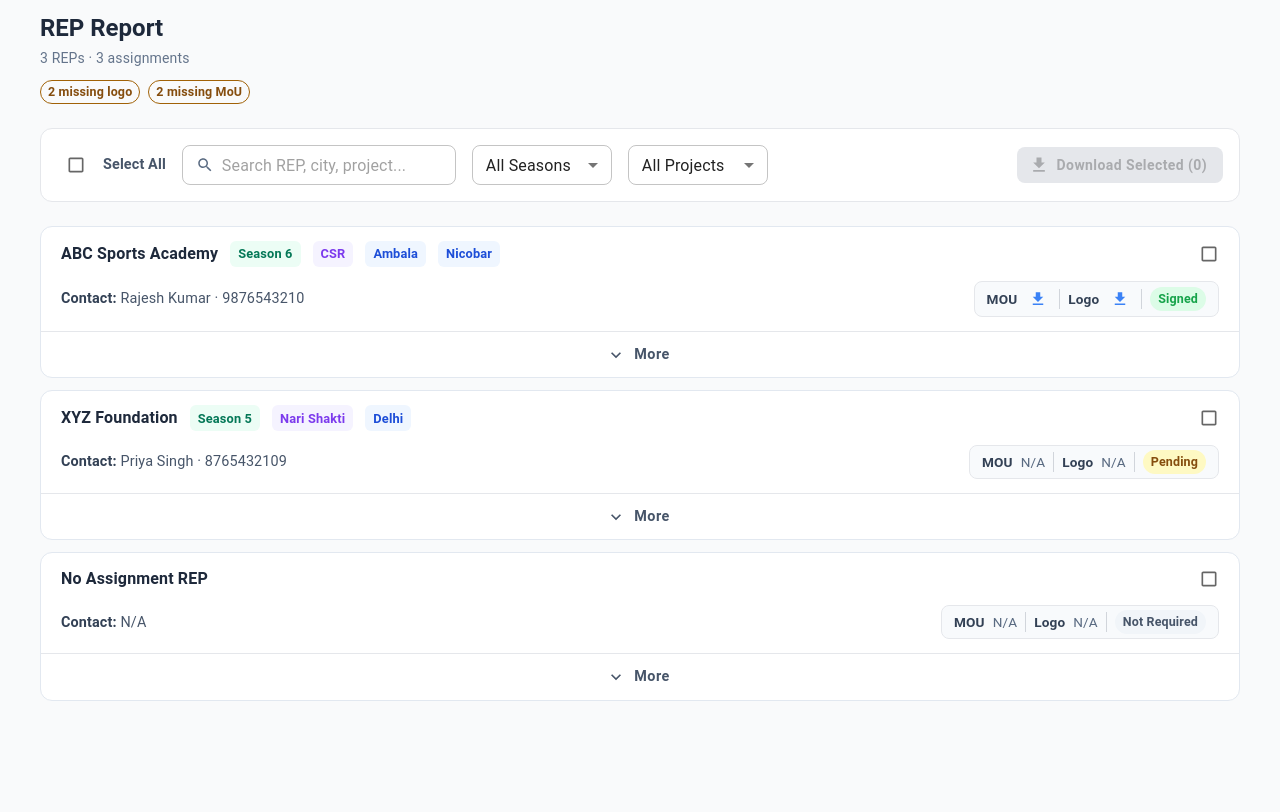
Test: SocialMediaReport › season filter narrows cards
The width and height of the screenshot is (1280, 812).
Expected: the text "ABC Sports Academy" is shown, [61,242,218,266]
First combobox is season filter
Click the dropdown labelled "All Seasons". click: (528, 165)
box: [486,156,571,174]
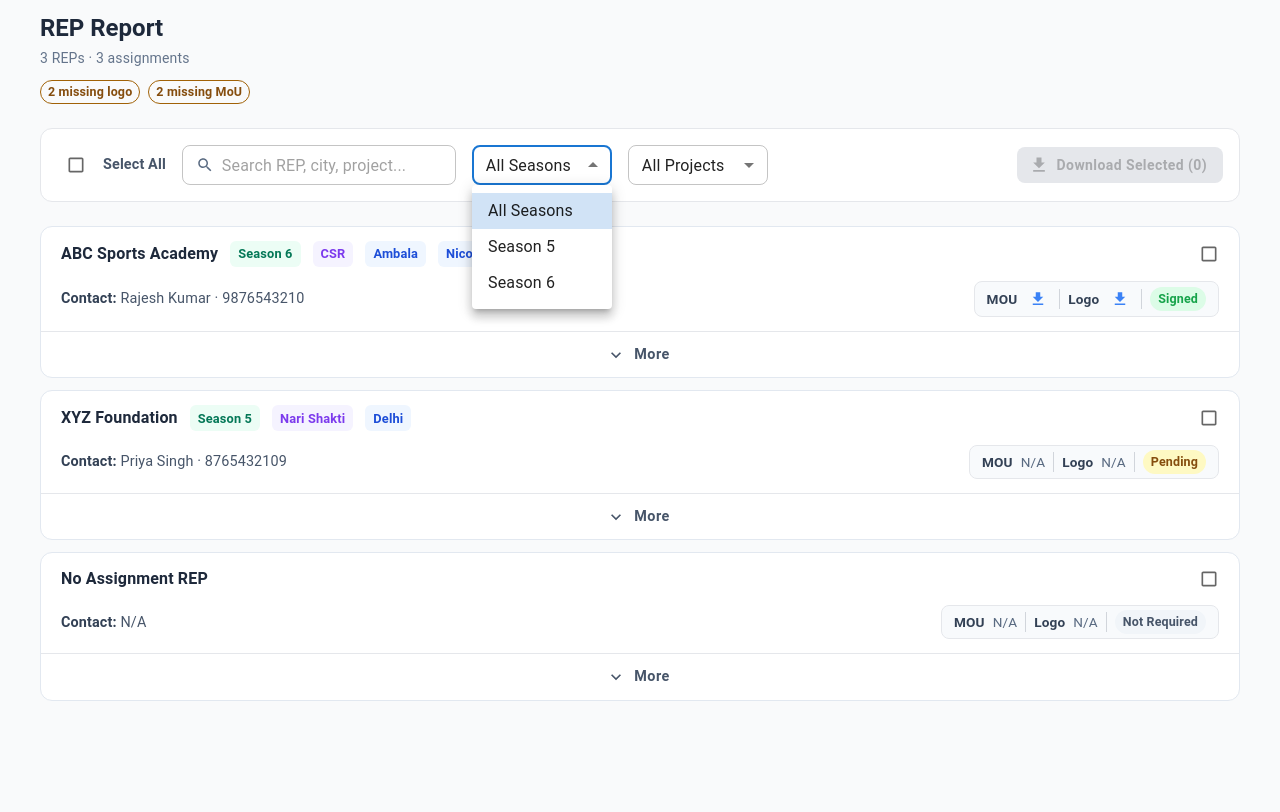
Click the option "Season 5". click: (522, 246)
box: [488,237,555,256]
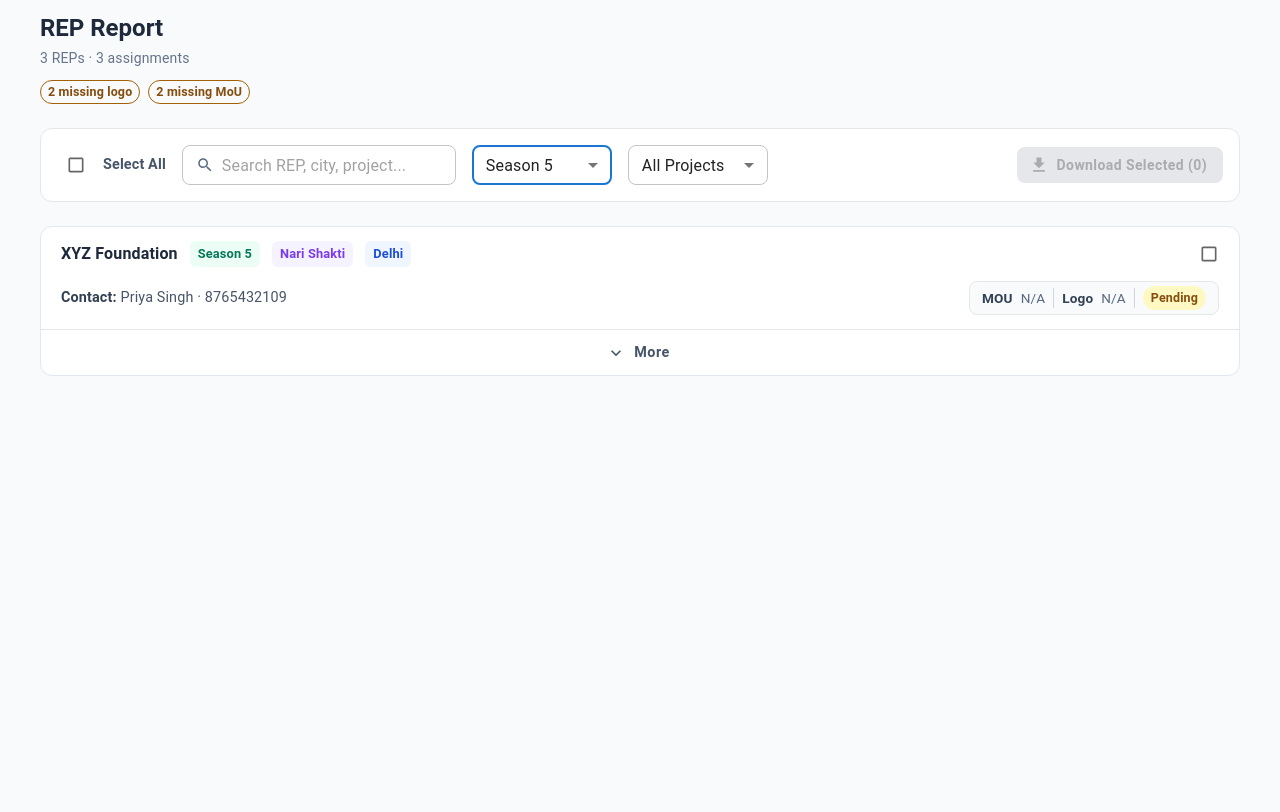
Expected: the text "XYZ Foundation" is shown, [61,242,178,266]
Expected: the text "ABC Sports Academy" is gone
